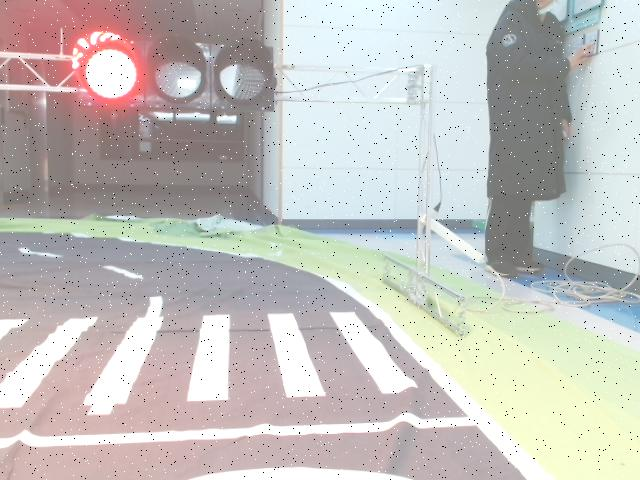crosswalk: (0, 310, 418, 407)
traffic light-red-: (75, 33, 278, 114)
